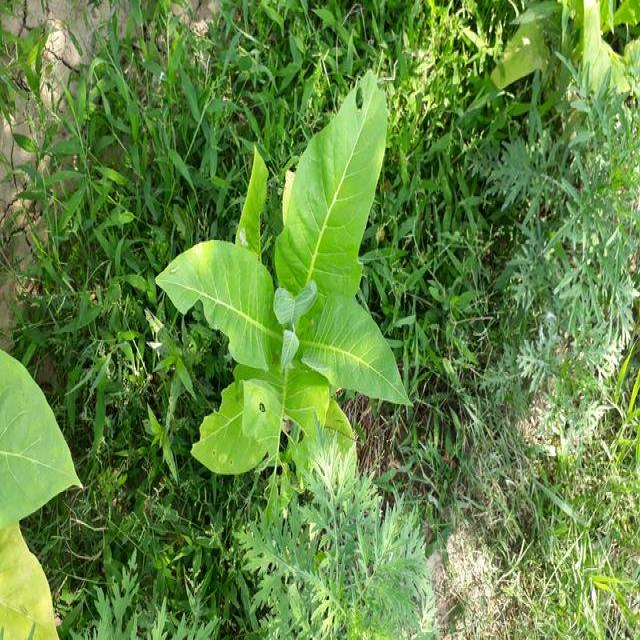crop: (180, 68, 392, 474)
